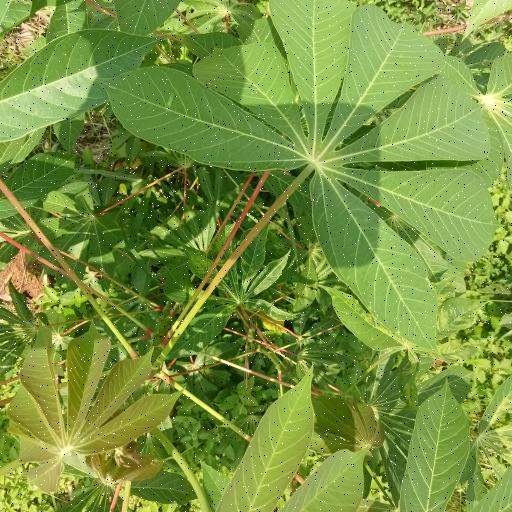Cassava_Healthy: (114, 6, 497, 348)
